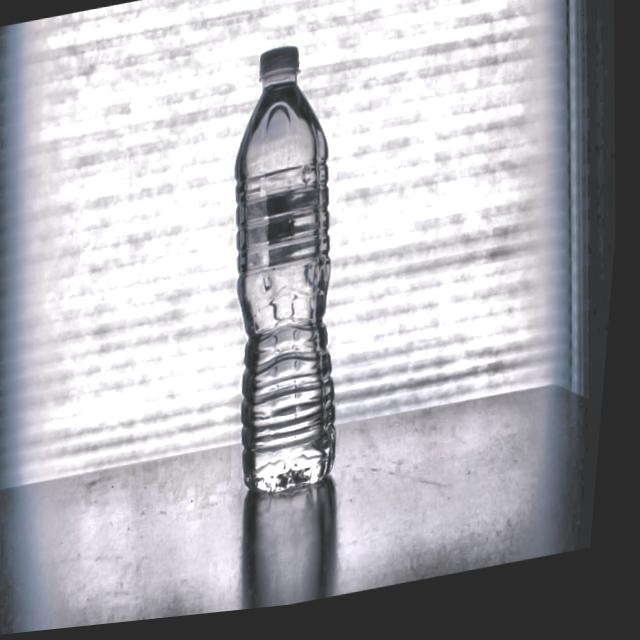Bottles: (180, 17, 394, 534)
